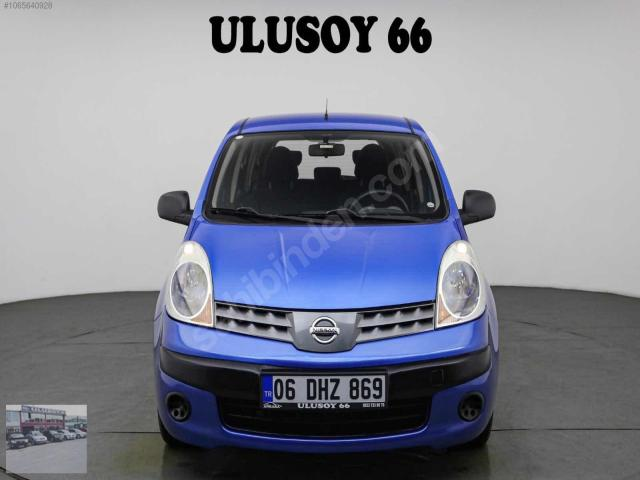plaka: (263, 375, 386, 408)
